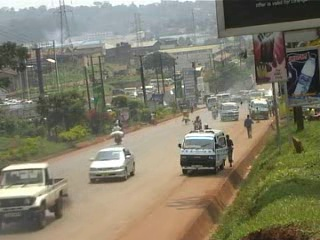Car: (88, 147, 136, 181)
Motorcycle: (194, 121, 201, 132), (182, 114, 189, 125), (114, 134, 121, 144), (212, 109, 217, 118)
